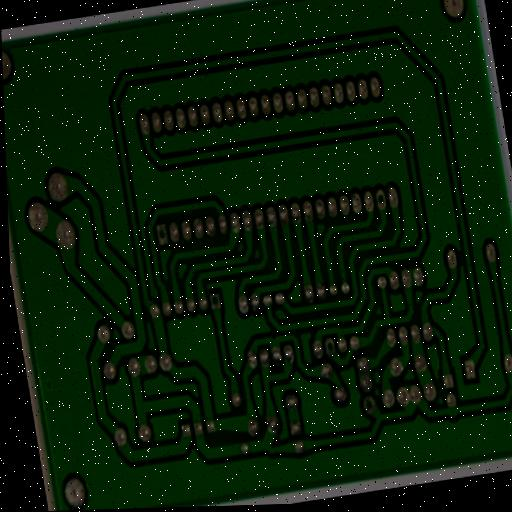missing_hole: (153, 221, 171, 248), (321, 334, 339, 360), (372, 186, 389, 213), (361, 395, 379, 415), (208, 291, 224, 312)
